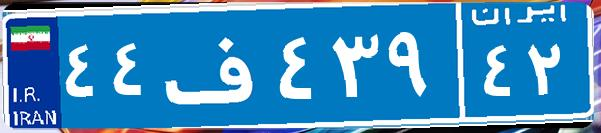2: (525, 38, 570, 115)
3: (330, 28, 385, 110)
4: (273, 28, 330, 110), (57, 26, 110, 107), (475, 38, 525, 113), (110, 28, 158, 105)
9: (385, 28, 445, 110)
ف: (158, 15, 273, 115)
